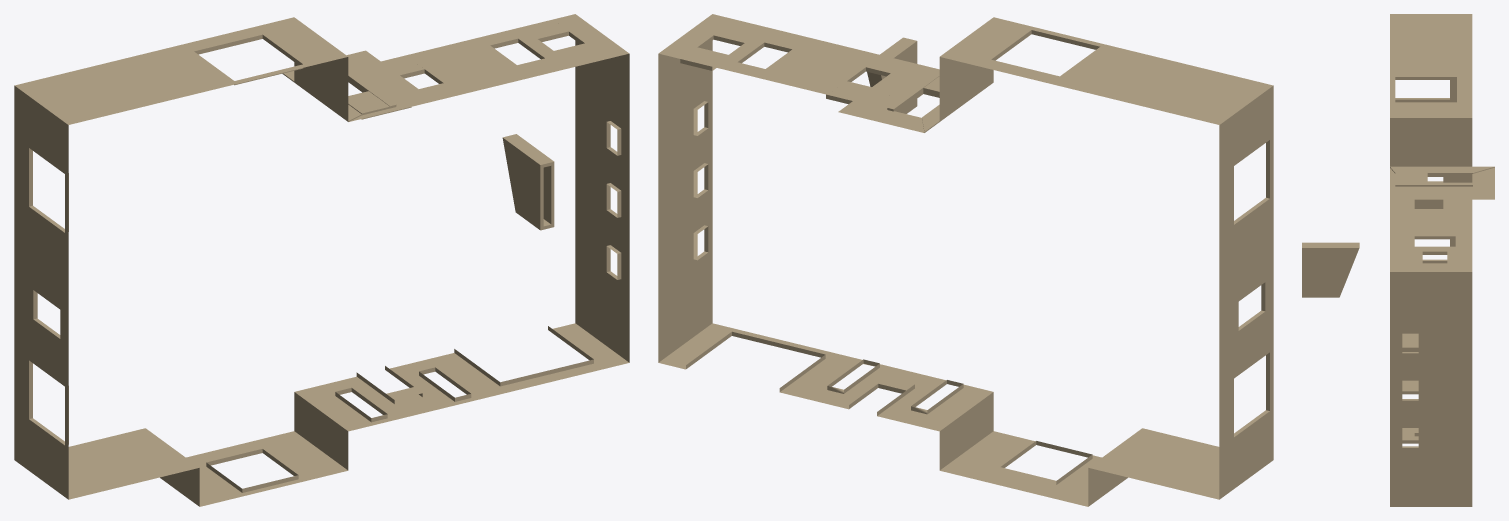
The model's file is Surface-Ceramics.obj.
The picture shows the model from 3 angles, left to right: view 1: azimuth 30°, elevation 25°; view 2: azimuth 150°, elevation 25°; view 3: azimuth 270°, elevation 25°; orthographic projection. The views are drawn at different scales.
Parts seen in each view (by area): view 1: Surface-Ceramics; view 2: Surface-Ceramics; view 3: Surface-Ceramics.
Boxes of the visible parts, left/top/right/bottom form: Surface-Ceramics: left=14, top=14, right=629, bottom=506; Surface-Ceramics: left=658, top=14, right=1273, bottom=506; Surface-Ceramics: left=1302, top=14, right=1494, bottom=506.
Size of the model in its own units: 17.96 by 12.66 by 7.04.
